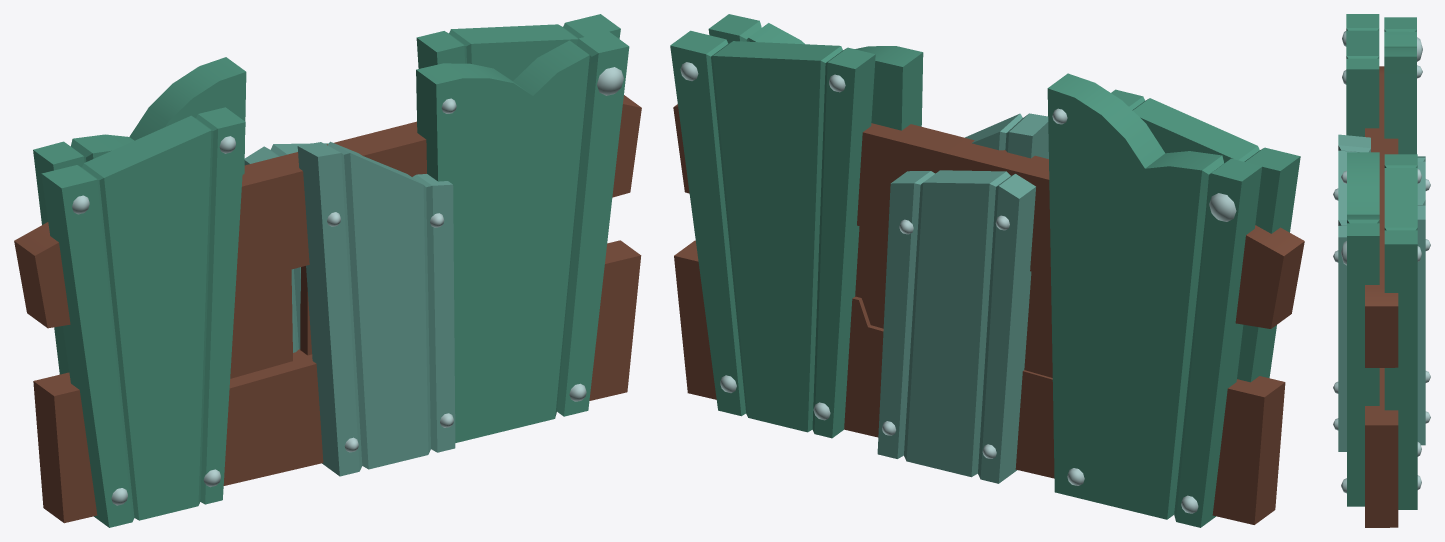
File: BR_Gate_4x2.5x1.fbx
3 views of the same model, side by side, from view 1: azimuth 30°, elevation 25°; view 2: azimuth 150°, elevation 25°; view 3: azimuth 270°, elevation 25° (orthographic). The views are drawn at different scales.
Parts seen in each view (by area): view 1: BR_Gate_4x2x1; view 2: BR_Gate_4x2x1; view 3: BR_Gate_4x2x1.
Boxes of the visible parts, box(x1,y1,x2,y2) form: BR_Gate_4x2x1: box(14, 14, 641, 527); BR_Gate_4x2x1: box(670, 14, 1304, 527); BR_Gate_4x2x1: box(1333, 14, 1430, 527).
Bounding box in the file's own units: 423 × 267 × 73.
